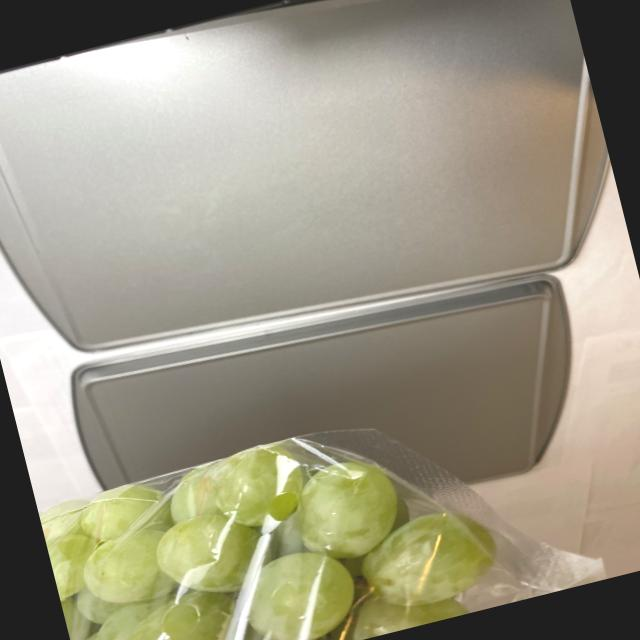grapes: (35, 384, 519, 640)
